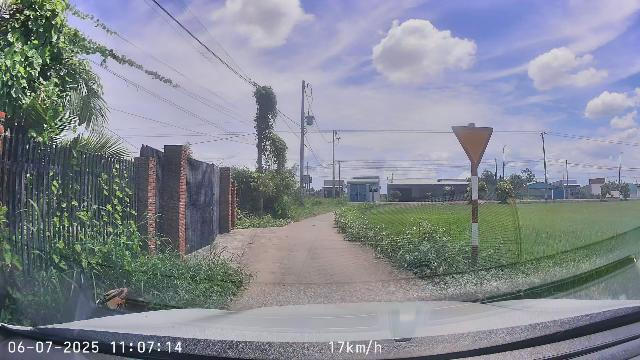208-giao-nhau-voi-duong-uu-tien: (452, 126, 493, 167)
